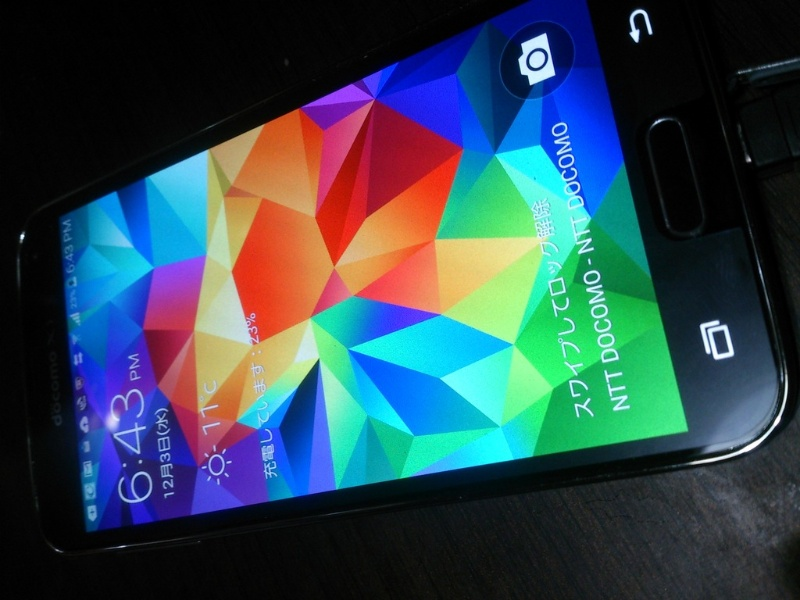cellphone: (5, 3, 775, 565)
